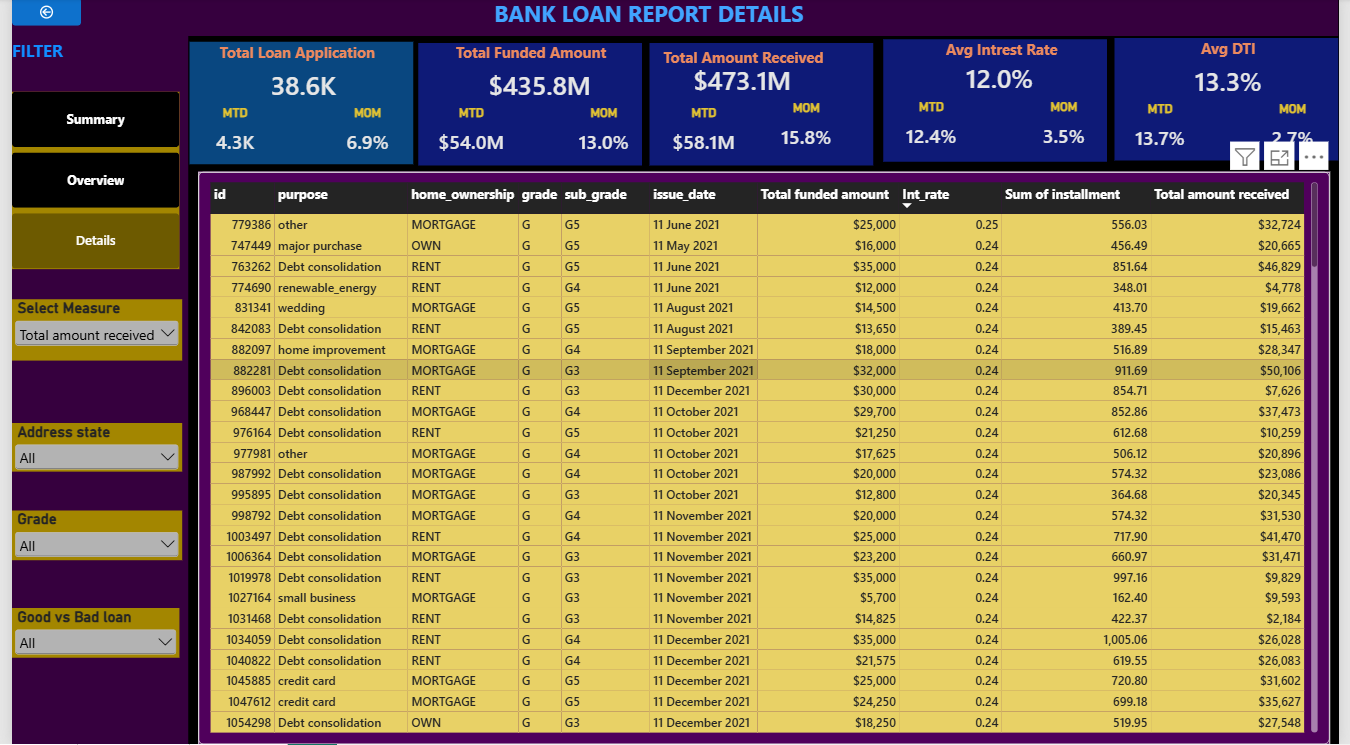

What the dashboard file says about the page in this screenshot:
{"tool":"powerbi","page":{"name":"Details","canvas":[1920,1080],"ordinal":2},"visuals":[{"type":"shape","box":[1596.1,57.9,323.9,177.3],"z":0,"group":"g5"},{"type":"shape","box":[1261.3,59.7,323.9,177.3],"z":0,"group":"g4"},{"type":"shape","box":[257,63.3,323.9,177.3],"z":0,"group":"g1"},{"type":"shape","box":[588.1,64.5,323.9,177.3],"z":0,"group":"g2"},{"type":"shape","box":[922.9,65.1,323.9,177.3],"z":0,"group":"g3"},{"type":"shape","box":[269.6,251.5,1637.7,828.8],"z":0},{"type":"shape","box":[0,0,1920.1,55],"z":1000},{"type":"card","fields":{"Values":["public financial_loan.Avg intrest rate"]},"box":[1309.2,85.3,242.5,63.3],"z":1000,"group":"g4"},{"type":"card","fields":{"Values":["public financial_loan.Total amount received"]},"box":[935.1,86.6,242.5,63.3],"z":1000,"group":"g3"},{"type":"card","fields":{"Values":["public financial_loan.Avg DTI"]},"box":[1639.5,88.7,242.5,63.3],"z":1000,"group":"g5"},{"type":"card","fields":{"Values":["public financial_loan.Total loan application"]},"box":[300.4,94.1,242.5,63.3],"z":1000,"group":"g1"},{"type":"card","fields":{"Values":["public financial_loan.Total funded amount"]},"box":[642.4,94.1,242.5,63.3],"z":1000,"group":"g2"},{"type":"shape","box":[0,54.3,255.2,1026.1],"z":2000},{"type":"textbox","box":[1639.5,57.9,242.5,30.8],"z":2000,"group":"g5"},{"type":"textbox","box":[300.4,63.3,242.5,30.8],"z":2000,"group":"g1"},{"type":"textbox","box":[642.4,63.3,242.5,30.8],"z":2000,"group":"g2"},{"type":"textbox","box":[943.2,70.9,251.9,29.1],"z":2000,"group":"g3"},{"type":"textbox","box":[419.8,0,1004.4,54.3],"z":3000},{"type":"card","title":"MTD","fields":{"Values":["public financial_loan.MTD avg int rate"]},"box":[1265.8,132.4,132.1,99.5],"z":3000,"group":"g4"},{"type":"card","title":"MTD","fields":{"Values":["public financial_loan.MTD avg DTI"]},"box":[1596.1,135.7,132.1,99.5],"z":3000,"group":"g5"},{"type":"card","title":"MTD","fields":{"Values":["public financial_loan.MTD total amount received"]},"box":[935.6,140.3,132.1,99.5],"z":3000,"group":"g3"},{"type":"card","title":"MTD","fields":{"Values":["public financial_loan.MTD loan application"]},"box":[257,141.1,132.1,99.5],"z":3000,"group":"g1"},{"type":"card","title":"MTD","fields":{"Values":["public financial_loan.MTD Funded amount"]},"box":[599,141.1,132.1,99.5],"z":3000,"group":"g2"},{"type":"group","id":"g1","title":"Group 1","box":[257,63.3,323.9,177.3],"z":4000},{"type":"card","title":"MOM","fields":{"Values":["public financial_loan.MOM avg int rate"]},"box":[1457.6,132.4,132.1,99.5],"z":4000,"group":"g4"},{"type":"card","title":"MOM","fields":{"Values":["public financial_loan.MOM total amount received"]},"box":[1083.5,133.6,132.1,99.5],"z":4000,"group":"g3"},{"type":"card","title":"MOM","fields":{"Values":["public financial_loan.MOM avg DTI"]},"box":[1787.9,135.7,132.1,99.5],"z":4000,"group":"g5"},{"type":"card","title":"MOM","fields":{"Values":["public financial_loan.MOM Loan Application"]},"box":[448.8,141.1,132.1,99.5],"z":4000,"group":"g1"},{"type":"card","title":"MOM","fields":{"Values":["public financial_loan.MOM total funded amount"]},"box":[790.8,141.1,132.1,99.5],"z":4000,"group":"g2"},{"type":"group","id":"g2","title":"Group 1","box":[588.1,63.3,334.8,178.5],"z":5000},{"type":"group","id":"g3","title":"Group 1","box":[922.9,65.1,323.9,177.3],"z":6000},{"type":"group","id":"g4","title":"Group 1","box":[1261.3,59.7,329.4,177.3],"z":7000},{"type":"textbox","box":[1352.6,60.1,219,31],"z":8000},{"type":"group","id":"g5","title":"Group 1","box":[1596.1,57.9,323.9,177.3],"z":9000},{"type":"actionButton","box":[0,0,100,40],"z":11000},{"type":"slicer","fields":{"Values":["public financial_loan.address_state"]},"box":[0,615.3,246.1,70.6],"z":12000},{"type":"slicer","fields":{"Values":["public financial_loan.grade"]},"box":[0,742,246.1,72.4],"z":13000},{"type":"slicer","fields":{"Values":["public financial_loan.Good vs Bad loan"]},"box":[0,883.1,242.5,72.4],"z":14000},{"type":"slicer","fields":{"Values":["Select Measure.Select Measure"]},"box":[0,436.1,246.1,88.7],"z":16000},{"type":"tableEx","fields":{"Values":["public financial_loan.id","public financial_loan.purpose","public financial_loan.home_ownership","public financial_loan.grade","public financial_loan.sub_grade","public financial_loan.issue_date","public financial_loan.Total funded amount","Sum(public financial_loan.int_rate)","Sum(public financial_loan.installment)","public financial_loan.Total amount received"]},"box":[269.6,251.5,1637.7,828.8],"z":16001},{"type":"pageNavigator","box":[0,0,600,50],"z":16002},{"type":"pageNavigator","box":[0,135.7,242.5,257],"z":16003},{"type":"textbox","box":[0,59.7,242.5,67],"z":16004}]}

Visuals, with their boxes on the page's 1920x1080 design canvas (x1, y1, x2, y2). These are canvas units, not pixel positions in the 1350x745 screenshot, which may show the page scaled, cropped or inside an application window:
shape: (x1=1596, y1=58, x2=1920, y2=235)
shape: (x1=1261, y1=60, x2=1585, y2=237)
shape: (x1=257, y1=63, x2=581, y2=241)
shape: (x1=588, y1=64, x2=912, y2=242)
shape: (x1=923, y1=65, x2=1247, y2=242)
shape: (x1=270, y1=252, x2=1907, y2=1080)
shape: (x1=0, y1=0, x2=1920, y2=55)
card - public financial_loan.Avg intrest rate: (x1=1309, y1=85, x2=1552, y2=149)
card - public financial_loan.Total amount received: (x1=935, y1=87, x2=1178, y2=150)
card - public financial_loan.Avg DTI: (x1=1640, y1=89, x2=1882, y2=152)
card - public financial_loan.Total loan application: (x1=300, y1=94, x2=543, y2=157)
card - public financial_loan.Total funded amount: (x1=642, y1=94, x2=885, y2=157)
shape: (x1=0, y1=54, x2=255, y2=1080)
textbox: (x1=1640, y1=58, x2=1882, y2=89)
textbox: (x1=300, y1=63, x2=543, y2=94)
textbox: (x1=642, y1=63, x2=885, y2=94)
textbox: (x1=943, y1=71, x2=1195, y2=100)
textbox: (x1=420, y1=0, x2=1424, y2=54)
"MTD" card: (x1=1266, y1=132, x2=1398, y2=232)
"MTD" card: (x1=1596, y1=136, x2=1728, y2=235)
"MTD" card: (x1=936, y1=140, x2=1068, y2=240)
"MTD" card: (x1=257, y1=141, x2=389, y2=241)
"MTD" card: (x1=599, y1=141, x2=731, y2=241)
"Group 1" group: (x1=257, y1=63, x2=581, y2=241)
"MOM" card: (x1=1458, y1=132, x2=1590, y2=232)
"MOM" card: (x1=1084, y1=134, x2=1216, y2=233)
"MOM" card: (x1=1788, y1=136, x2=1920, y2=235)
"MOM" card: (x1=449, y1=141, x2=581, y2=241)
"MOM" card: (x1=791, y1=141, x2=923, y2=241)
"Group 1" group: (x1=588, y1=63, x2=923, y2=242)
"Group 1" group: (x1=923, y1=65, x2=1247, y2=242)
"Group 1" group: (x1=1261, y1=60, x2=1591, y2=237)
textbox: (x1=1353, y1=60, x2=1572, y2=91)
"Group 1" group: (x1=1596, y1=58, x2=1920, y2=235)
actionButton: (x1=0, y1=0, x2=100, y2=40)
slicer - public financial_loan.address_state: (x1=0, y1=615, x2=246, y2=686)
slicer - public financial_loan.grade: (x1=0, y1=742, x2=246, y2=814)
slicer - public financial_loan.Good vs Bad loan: (x1=0, y1=883, x2=242, y2=956)
slicer - Select Measure.Select Measure: (x1=0, y1=436, x2=246, y2=525)
tableEx - public financial_loan.id x public financial_loan.purpose: (x1=270, y1=252, x2=1907, y2=1080)
pageNavigator: (x1=0, y1=0, x2=600, y2=50)
pageNavigator: (x1=0, y1=136, x2=242, y2=393)
textbox: (x1=0, y1=60, x2=242, y2=127)
